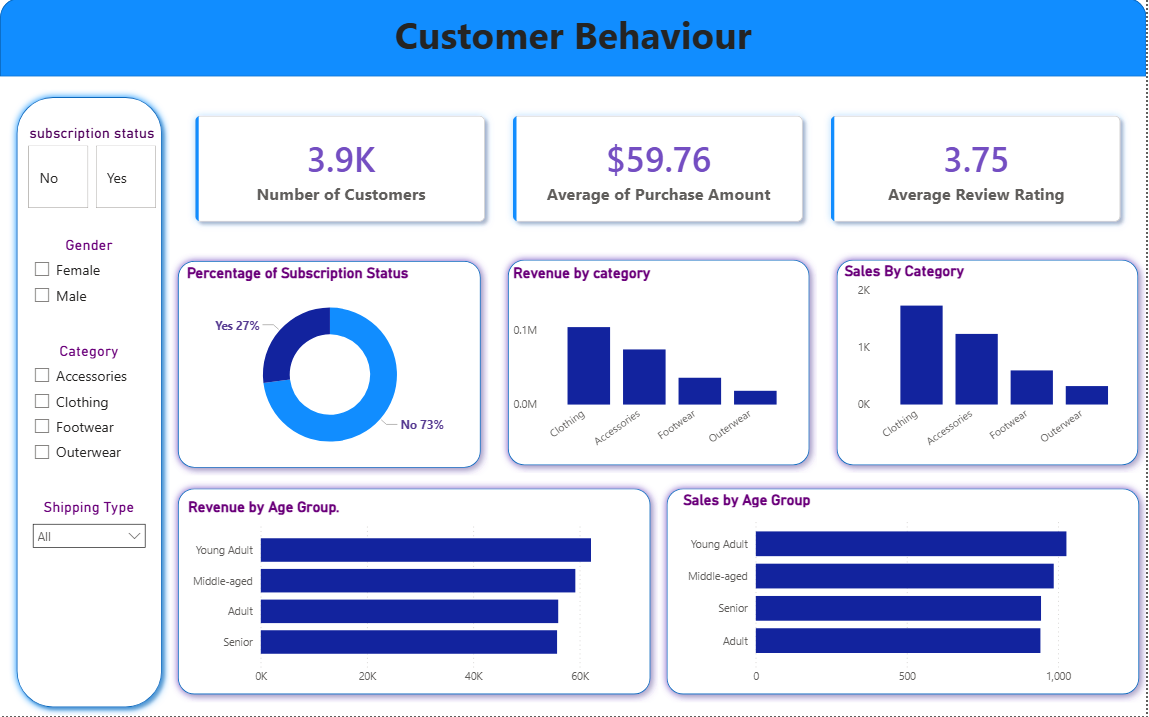

This screenshot's page, from the dashboard's own definition file:
{"tool":"powerbi","page":{"name":"Page 1","canvas":[1310,820],"ordinal":0},"visuals":[{"type":"shape","box":[194.1,551,558.1,253.6],"z":0},{"type":"cardVisual","fields":{"Data":["public customer.Number of Customers","public customer.Average of Purchase Amount","public customer.Average Review Rating"]},"box":[194,105.4,1116.3,180],"z":1000},{"type":"shape","box":[0,0,1310.3,90],"z":2000},{"type":"textbox","box":[0,7,1310.3,77.3],"z":3000},{"type":"shape","box":[194,291,364.1,254.5],"z":4000},{"type":"donutChart","title":"Percentage of Subscription Status","fields":{"Category":["public customer.subscription_status"],"Y":["CountNonNull(public customer.customer_id)"]},"box":[208.1,303.7,337.4,233.4],"z":5000},{"type":"shape","box":[570.8,289.6,362.7,253.1],"z":6000},{"type":"shape","box":[947.6,289.6,362.7,253.1],"z":7000},{"type":"clusteredColumnChart","title":"Revenue by category","fields":{"Y":["Sum(public customer.purchase_amount)"],"Category":["public customer.category"]},"box":[582,303.7,338.8,230.6],"z":8000},{"type":"clusteredColumnChart","title":"Sales By Category","fields":{"Y":["CountNonNull(public customer.customer_id)"],"Category":["public customer.category"]},"box":[960.2,300.9,338.8,233.4],"z":9000},{"type":"shape","box":[9.9,104.8,184.1,715.3],"z":10000},{"type":"advancedSlicerVisual","title":"subscription status","fields":{"Values":["public customer.subscription_status"]},"box":[26.7,144.8,156.1,101.2],"z":11000},{"type":"clusteredBarChart","title":"Revenue by Age Group.","fields":{"Y":["Sum(public customer.purchase_amount)"],"Category":["public customer.age_group"]},"box":[209.6,570.9,528.4,222.4],"z":12000},{"type":"shape","box":[752.2,551,558.1,253.6],"z":13000},{"type":"clusteredBarChart","title":"Sales by Age Group","fields":{"Y":["CountNonNull(public customer.customer_id)"],"Category":["public customer.age_group"]},"box":[776.3,562.4,522.7,230.9],"z":14000},{"type":"slicer","title":"Gender","fields":{"Values":["public customer.gender"]},"box":[26.9,271.6,149.3,94],"z":15000},{"type":"slicer","title":"Category","fields":{"Values":["public customer.category"]},"box":[26.9,392.5,149.3,152.2],"z":16000},{"type":"slicer","title":"Shipping Type","fields":{"Values":["public customer.shipping_type"]},"box":[26.8,570.9,148.8,89.1],"z":17000}]}

Visuals, with their boxes in screenshot pixels (x1, y1, x2, y2), scaled from the page's 1310x820 canvas onto the 1149x717 screenshot:
shape: 170:482:660:704
cardVisual - public customer.Number of Customers x public customer.Average of Purchase Amount: 170:92:1148:250
shape: 0:0:1148:79
textbox: 0:6:1148:74
shape: 170:254:490:477
"Percentage of Subscription Status" donutChart: 183:266:478:470
shape: 501:253:819:475
shape: 831:253:1148:475
"Revenue by category" clusteredColumnChart: 510:266:808:467
"Sales By Category" clusteredColumnChart: 842:263:1139:467
shape: 9:92:170:716
"subscription status" advancedSlicerVisual: 23:127:160:215
"Revenue by Age Group." clusteredBarChart: 184:499:647:694
shape: 660:482:1148:704
"Sales by Age Group" clusteredBarChart: 681:492:1139:694
"Gender" slicer: 24:237:155:320
"Category" slicer: 24:343:155:476
"Shipping Type" slicer: 24:499:154:577
